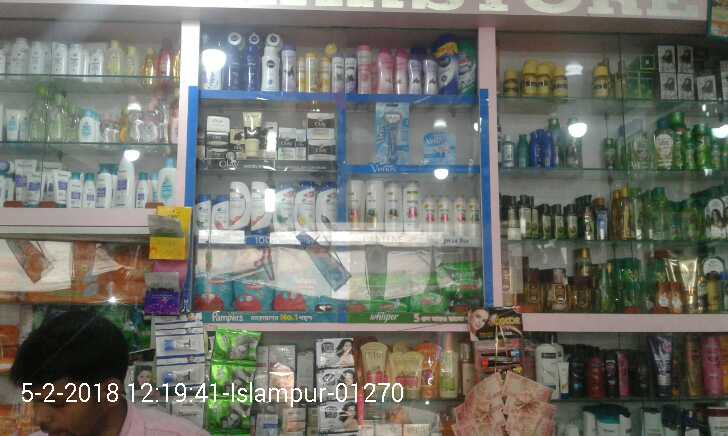venus: (377, 99, 411, 164), (424, 130, 457, 165)
